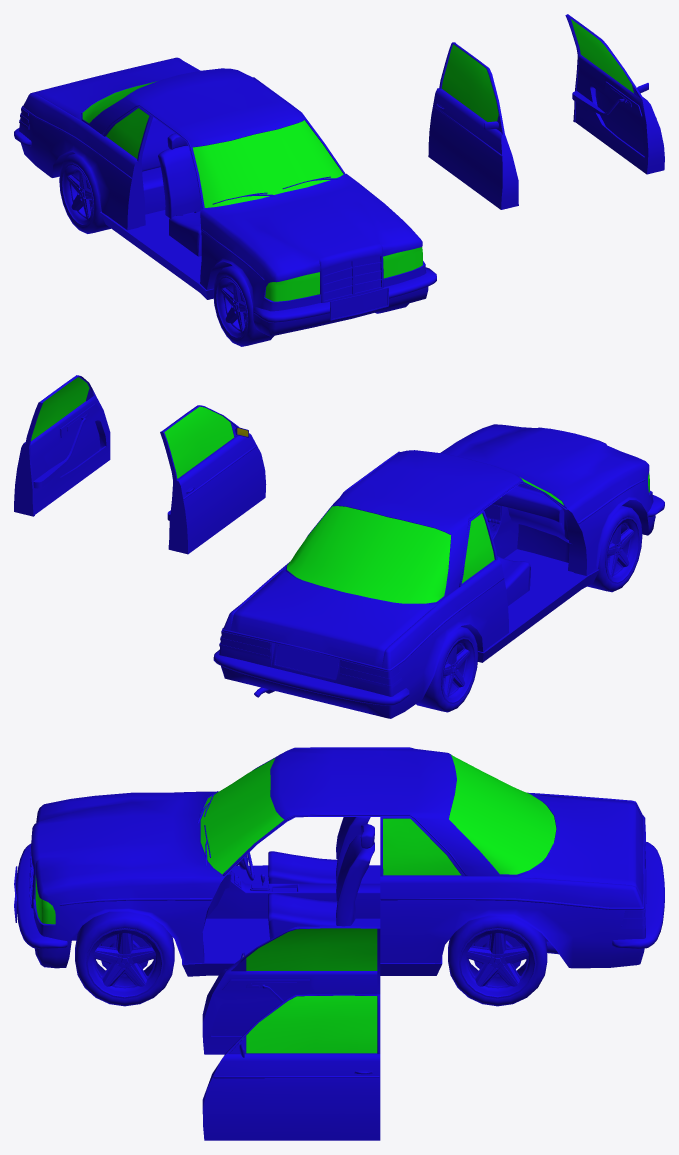
Rendered from SedanModel-11TextureUPDATE.fbx.
3 views of the same model, one above another, from view 1: azimuth 30°, elevation 25°; view 2: azimuth 150°, elevation 25°; view 3: azimuth 270°, elevation 25° (orthographic). The views are drawn at different scales.
Visible parts, largest first — view 1: Auto, Deuren, Wielen; view 2: Auto, Deuren, Wielen; view 3: Auto, Deuren, Wielen.
Boxes of the visible parts, bbox=[...] form: Auto: bbox=[14, 57, 436, 336]; Deuren: bbox=[428, 14, 664, 209]; Wielen: bbox=[59, 153, 408, 346]; Auto: bbox=[213, 424, 664, 718]; Deuren: bbox=[14, 375, 266, 554]; Wielen: bbox=[416, 505, 642, 712]; Auto: bbox=[14, 747, 664, 976]; Deuren: bbox=[202, 926, 380, 1140]; Wielen: bbox=[75, 911, 547, 1006].
Bounding box in the file's own units: 472 × 143 × 466.
